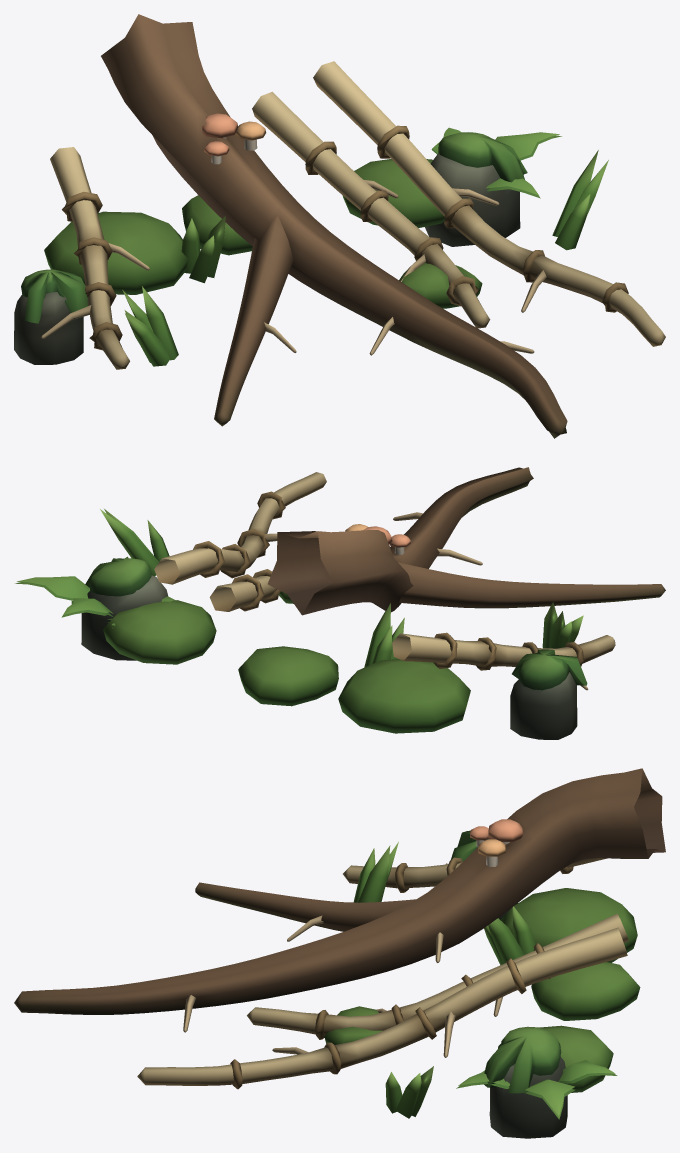
Rendered from dg-bamboo-rootTangle-v0.glb.
3 renders of one model, top to bottom at view 1: azimuth 30°, elevation 25°; view 2: azimuth 150°, elevation 25°; view 3: azimuth 270°, elevation 25°, orthographic. The views are drawn at different scales.
Visible parts, largest first — view 1: body, stone, leaf; view 2: body, stone, leaf; view 3: body, stone, leaf.
Boxes of the visible parts, x1,y1,x2,y2 form: body: [41, 14, 665, 438]; stone: [14, 132, 527, 364]; leaf: [122, 127, 608, 366]; body: [154, 467, 665, 690]; stone: [81, 556, 587, 739]; leaf: [15, 509, 583, 667]; body: [14, 768, 665, 1089]; stone: [324, 830, 640, 1138]; leaf: [353, 841, 617, 1119].
Bounding box in the file's own units: 2.37 × 0.9092 × 2.39.
